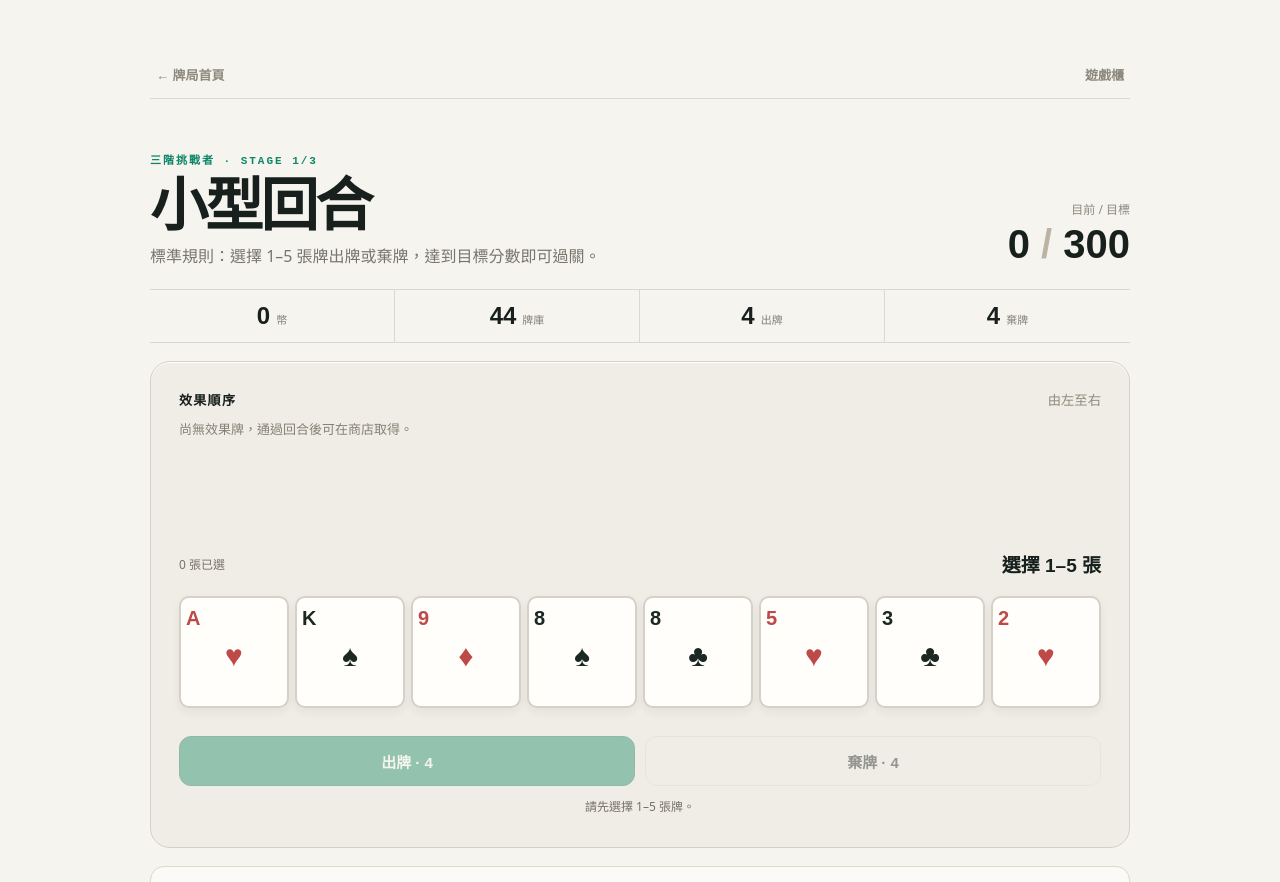
Scenario: mounted poker play behavior › replaces discarded cards immediately and allows a new action during the outgoing animation
The image size is (1280, 882).
What coordinates should you click on to do the following:
click the button "A ♥"
I would click on:
 (234, 652)
Its box is [179,596,289,708].
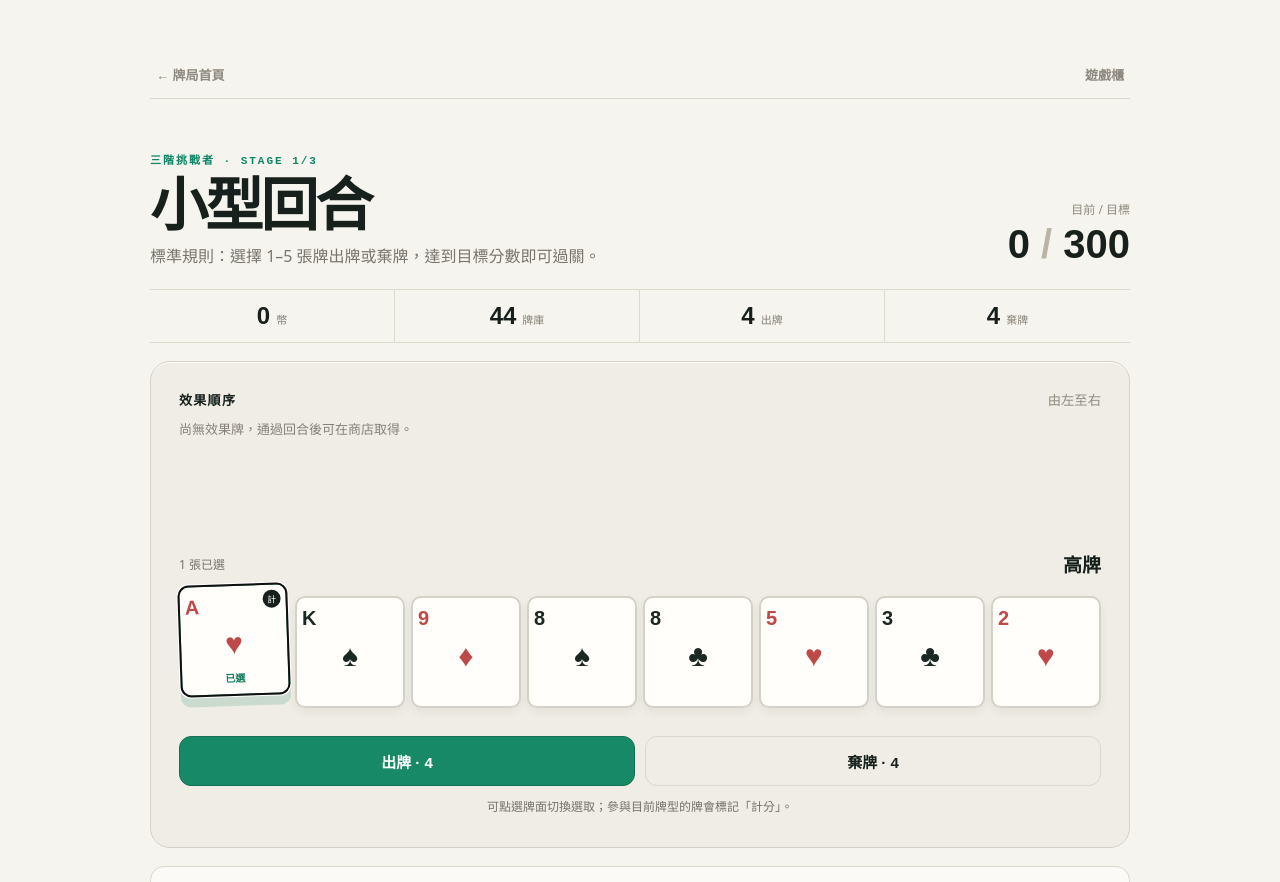
What coordinates should you click on to do the following:
click the button "K ♠"
I would click on:
 (350, 652)
Its box is [295,596,405,708].
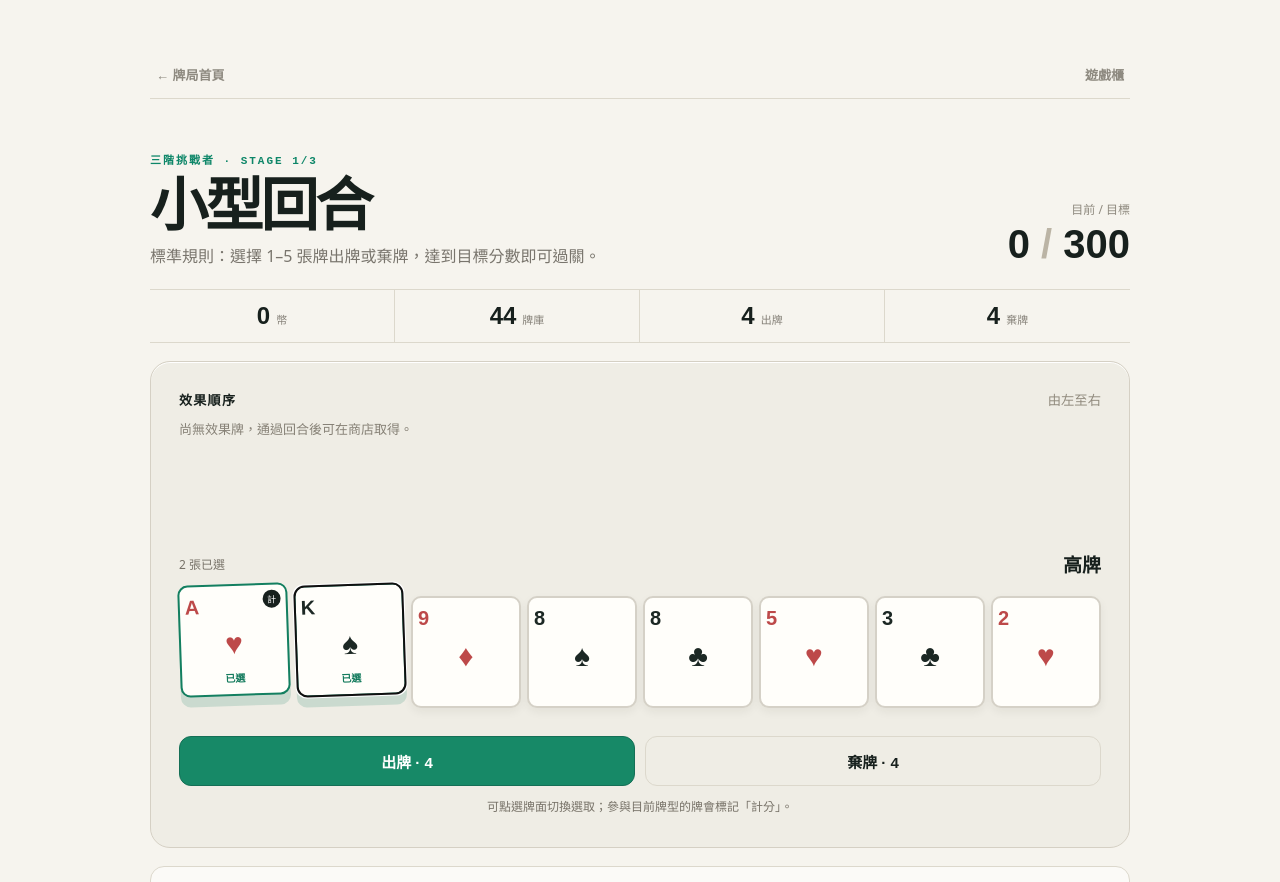
What coordinates should you click on to do the following:
click the button "棄牌 · 4"
I would click on:
 (873, 761)
Its box is [645,736,1101,786].
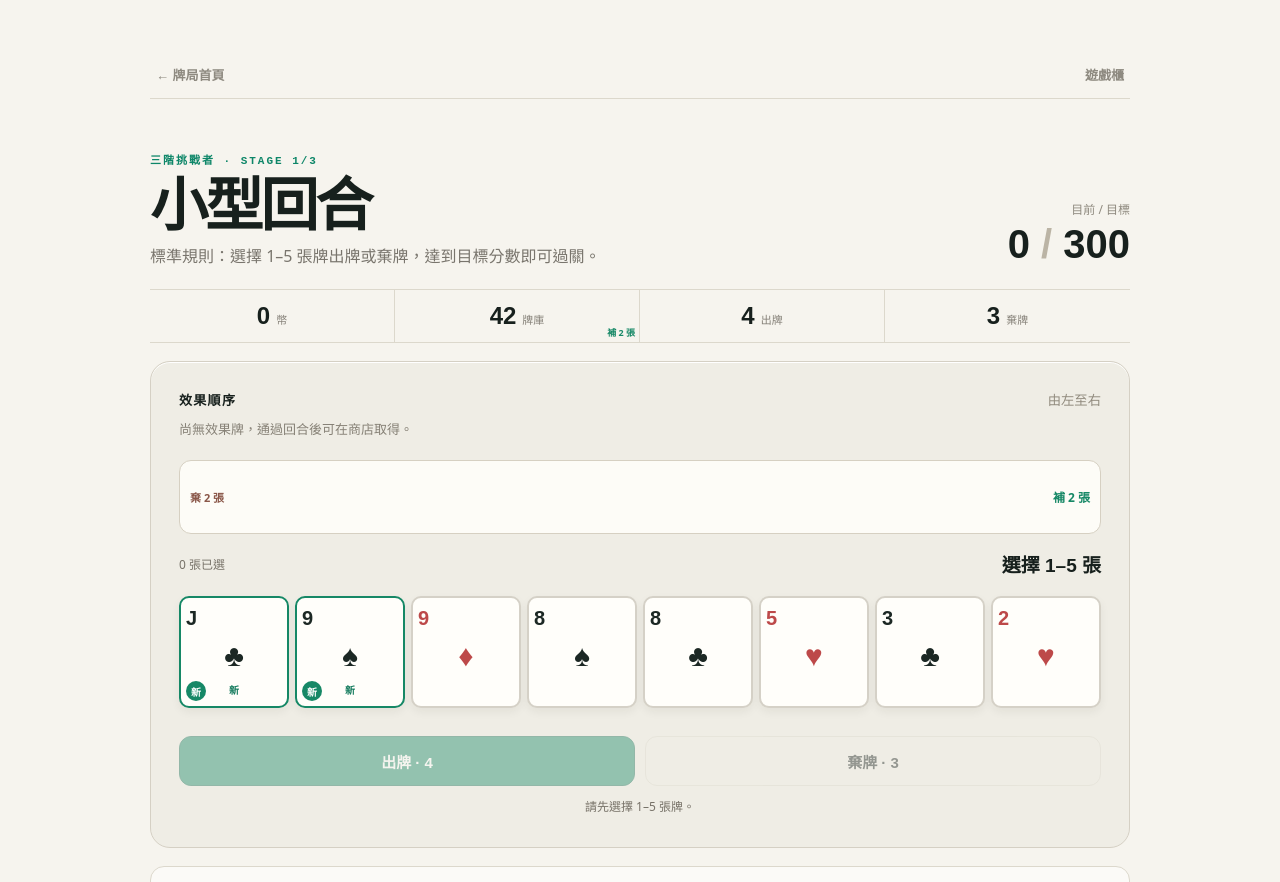
expect the message named "已棄掉 2 張牌，補 2 張" is shown: met, box [179,460,1101,534]
What coordinates should you click on to do the following:
click the button named "，新牌"
I would click on:
 (234, 652)
Its box is [179,596,289,708].
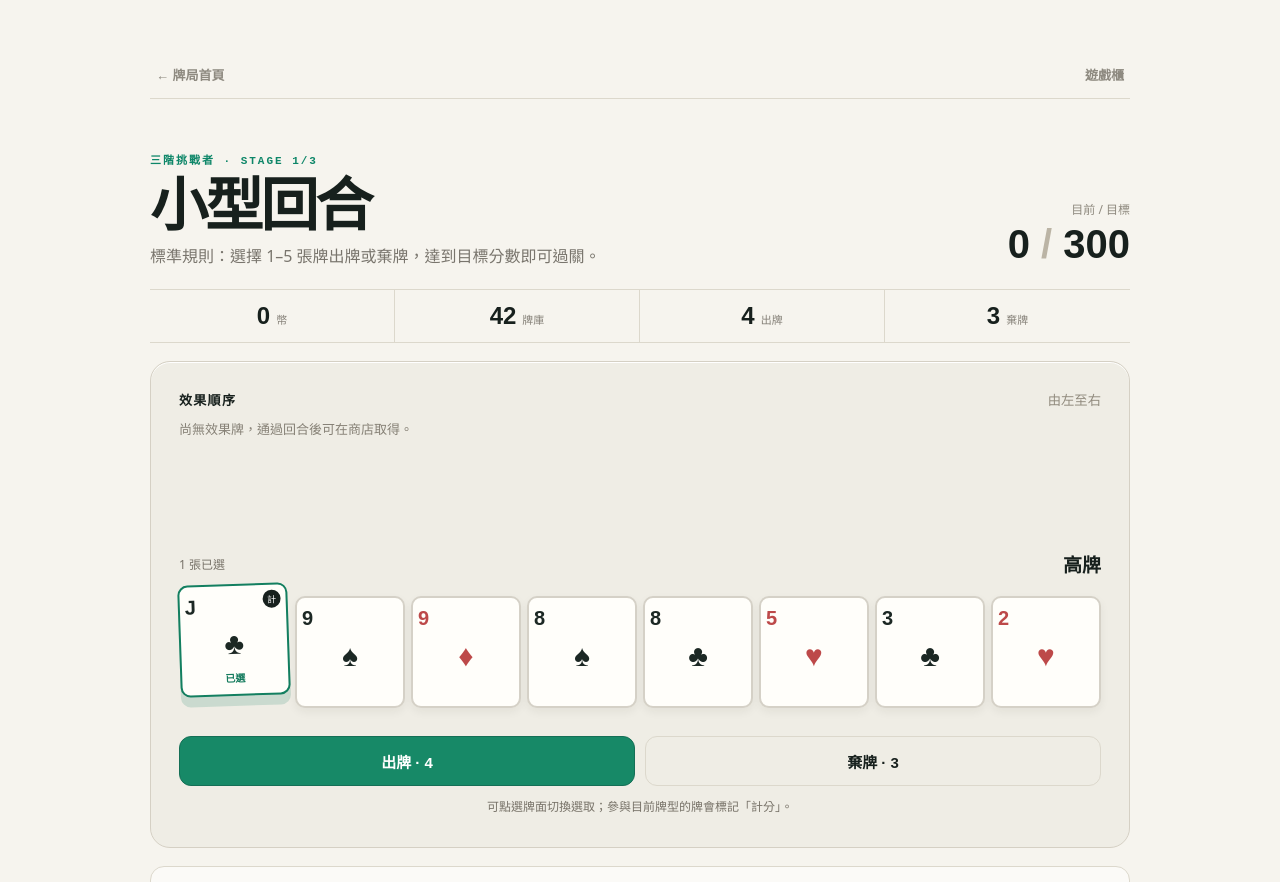
expect the button "出牌 · 4" is enabled: met, box [179,736,635,786]
